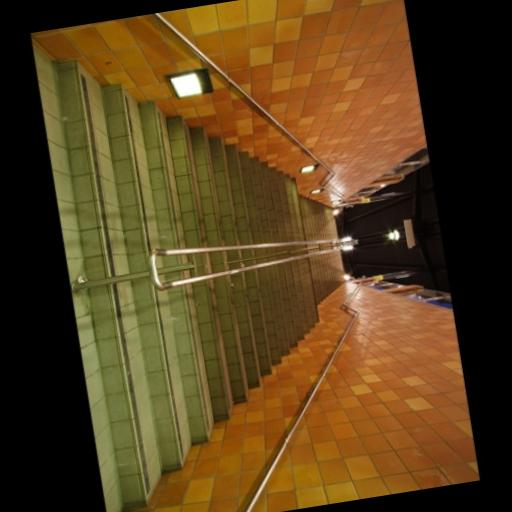stairs: (72, 251, 343, 511)
